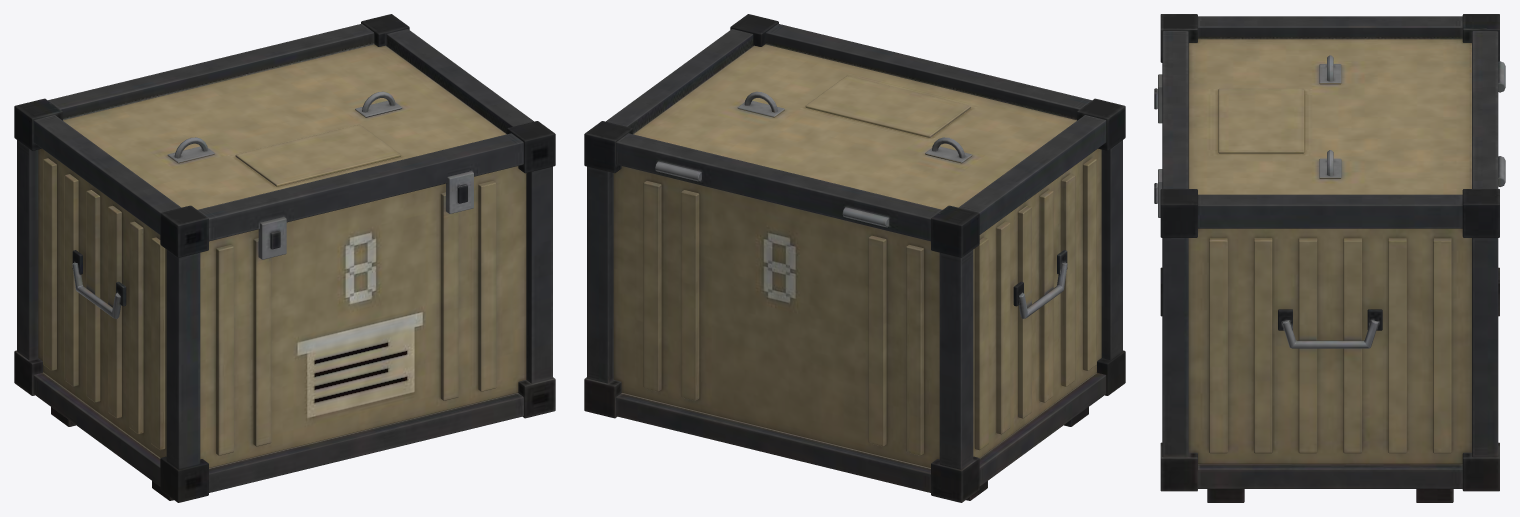
Rendered from crate_b.glb.
The picture shows the model from 3 angles, left to right: view 1: azimuth 30°, elevation 25°; view 2: azimuth 150°, elevation 25°; view 3: azimuth 270°, elevation 25°; orthographic projection. The views are drawn at different scales.
Visible parts, largest first — view 1: crate_b; view 2: crate_b; view 3: crate_b.
Part boxes in pixels (bbox=[...]): crate_b: bbox=[14, 14, 555, 502]; crate_b: bbox=[584, 14, 1125, 502]; crate_b: bbox=[1154, 14, 1505, 502].
Bounding box in the file's own units: 1.22 × 0.9189 × 0.942.
Materials: 1 (1 with a texture image).
